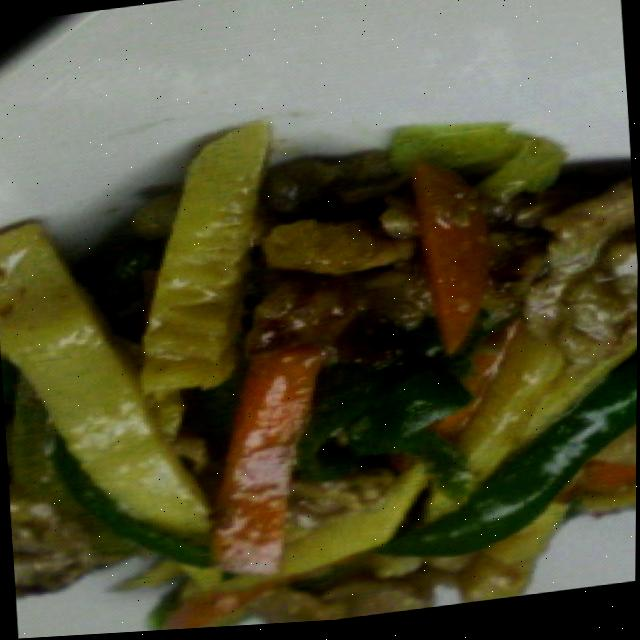牛肉菜式: (0, 58, 639, 640)
